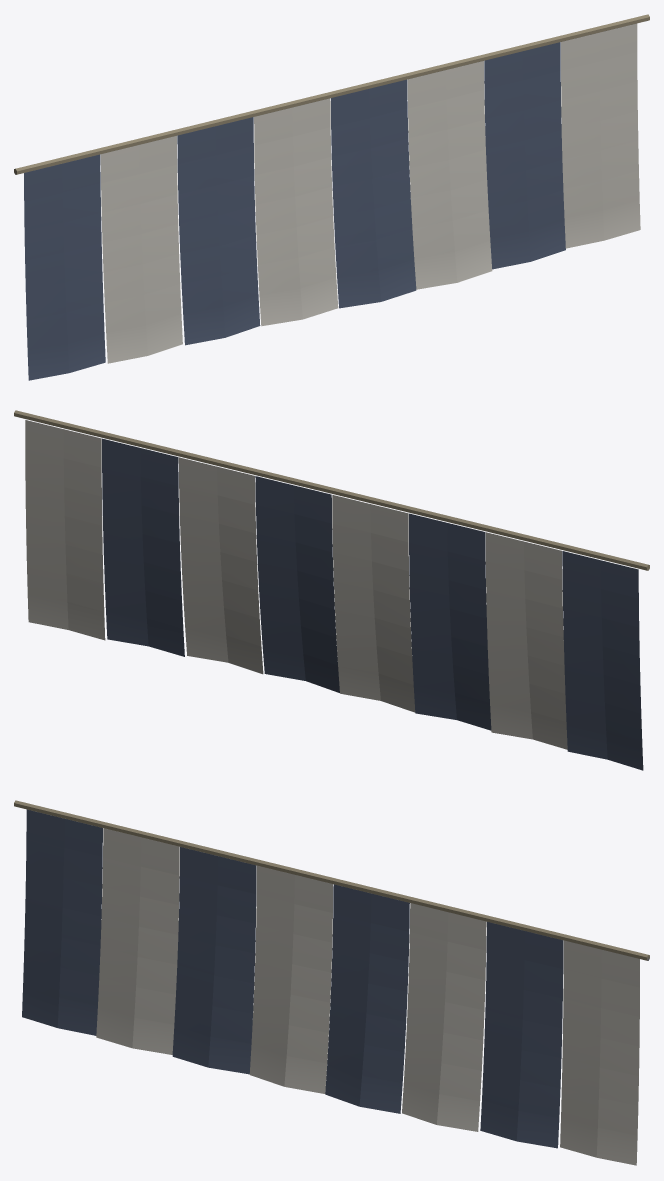
The model's file is prop_maku_ai.glb.
3 renders of one model, top to bottom at view 1: azimuth 30°, elevation 25°; view 2: azimuth 150°, elevation 25°; view 3: azimuth 330°, elevation 25°, orthographic.
Visible parts, largest first — view 1: prop_maku_ai; view 2: prop_maku_ai; view 3: prop_maku_ai.
Part boxes in pixels (<box>): prop_maku_ai: <box>14,14,649,380</box>; prop_maku_ai: <box>14,410,649,770</box>; prop_maku_ai: <box>14,800,649,1165</box>.
Size of the model in its own units: 3.3 by 1.06 by 0.1238.
